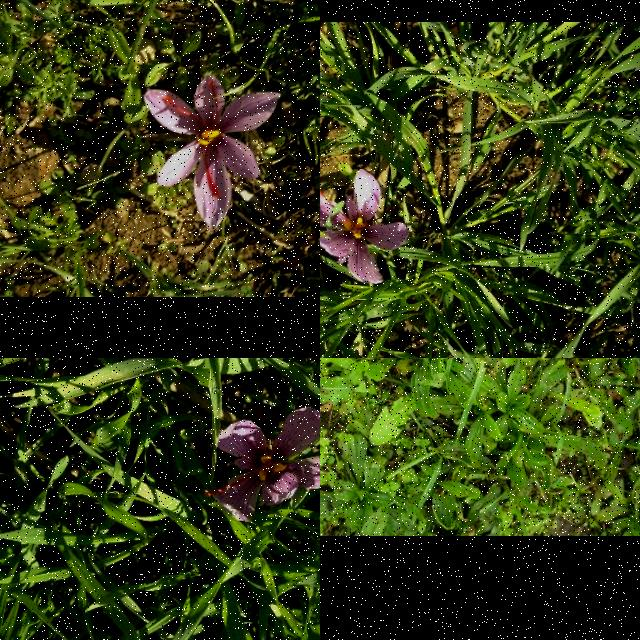flower: (145, 78, 281, 232), (202, 408, 320, 522), (320, 170, 409, 284)
